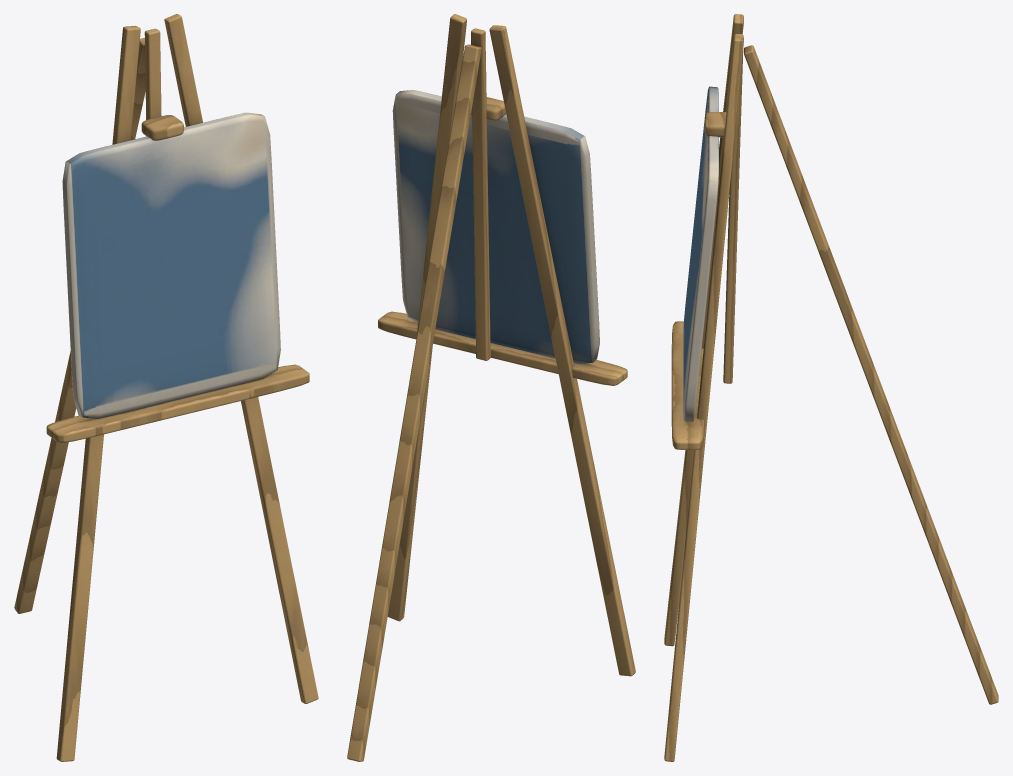
File: pine-abstract.glb
3 views of the same model, side by side, from view 1: azimuth 30°, elevation 25°; view 2: azimuth 150°, elevation 25°; view 3: azimuth 270°, elevation 25° (orthographic). The views are drawn at different scales.
Visible parts, largest first — view 1: painting_0, wood_z; view 2: wood_z, painting_0; view 3: wood_z, painting_0.
Part boxes in pixels (left/top/right/bottom): painting_0: left=62, top=112, right=280, bottom=418; wood_z: left=14, top=14, right=318, bottom=761; wood_z: left=347, top=14, right=635, bottom=761; painting_0: left=392, top=90, right=599, bottom=363; wood_z: left=664, top=14, right=998, bottom=761; painting_0: left=683, top=86, right=718, bottom=421.
Size of the model in its own units: 0.6334 by 1.61 by 0.7198.
Materials: 2 (2 with a texture image).
